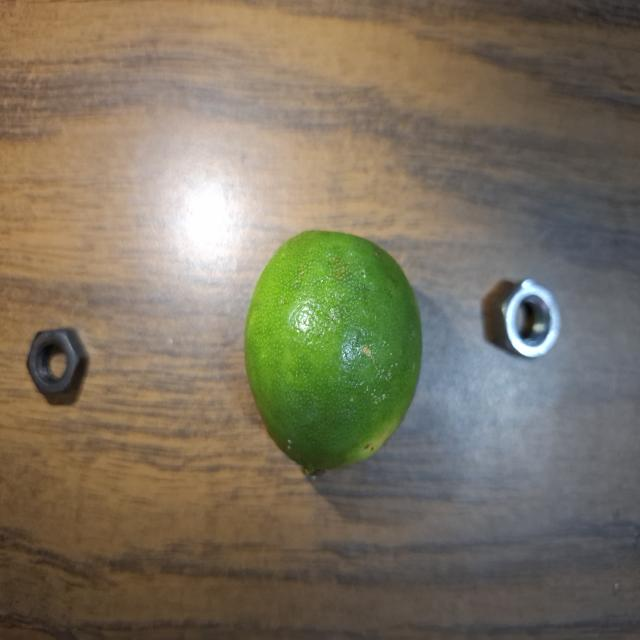limon: (242, 228, 427, 494)
milimetrico: (22, 326, 100, 414)
tuerca: (491, 270, 573, 382)
